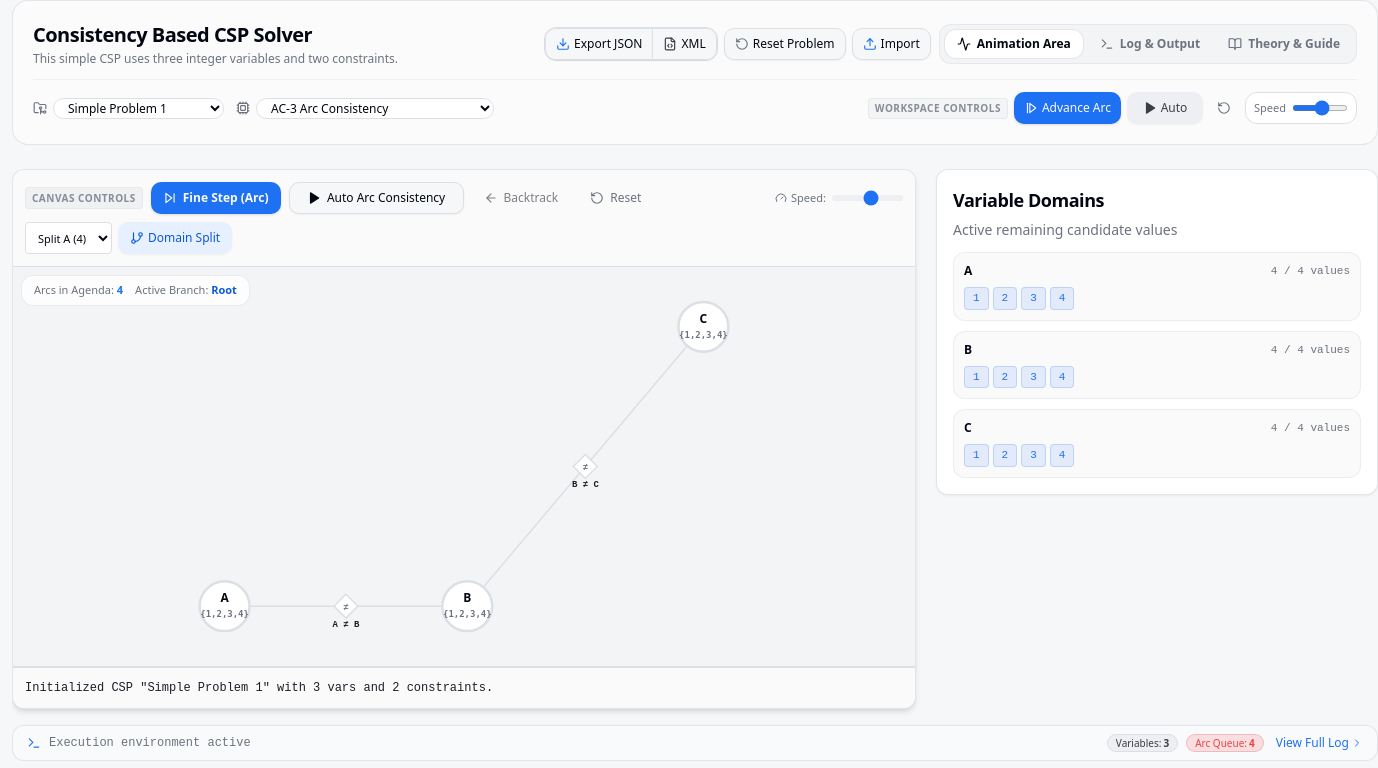
Test: AI Playground Consistent Workspace & Drag-and-Drop Graph Builder › 7. ConstraintTool has consistent header, algorithms menu, and pane switching without Coding Area
The image size is (1378, 768).
Expected: the heading "Consistency Based CSP Solver" is shown, [33,21,312,48]
Expected: the dropdown named "Select CSP Problem" is shown, [53,98,224,118]
What coordinates should you click on to do the following:
click the button "Theory & Guide"
I would click on:
 (1284, 44)
Its box is [1216,30,1352,58].
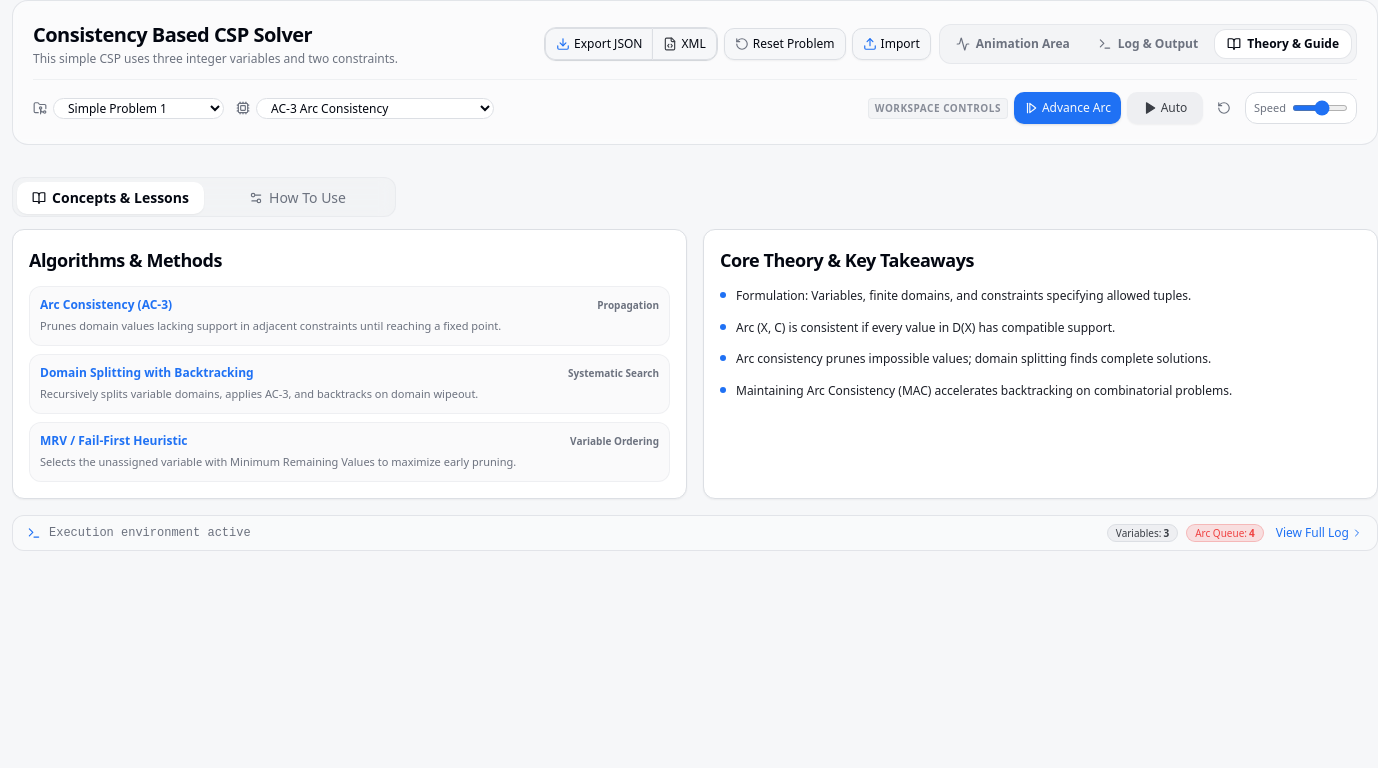
Now the tab "Concepts & Lessons" is shown, box [17,182,204,214]
